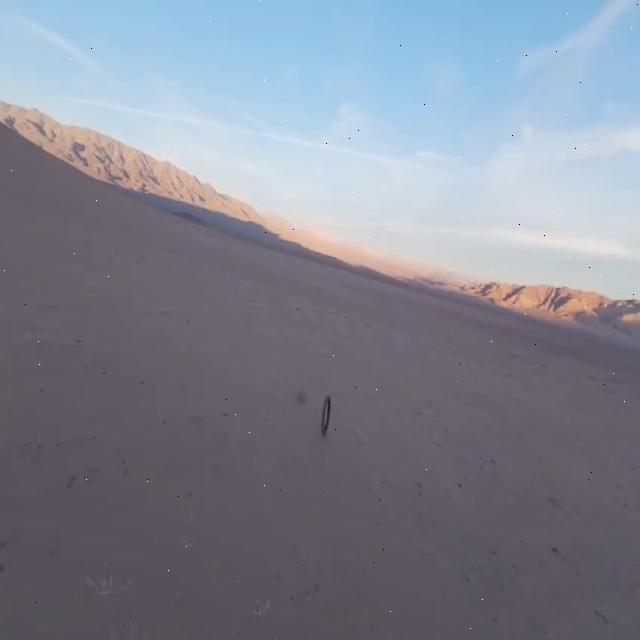Tire: (321, 395, 331, 434)
